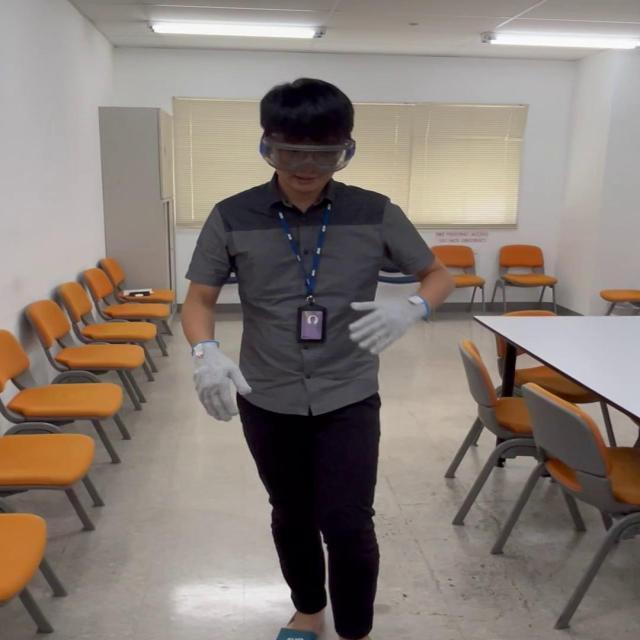gloved_hand: (354, 289, 428, 361), (190, 342, 255, 416)
